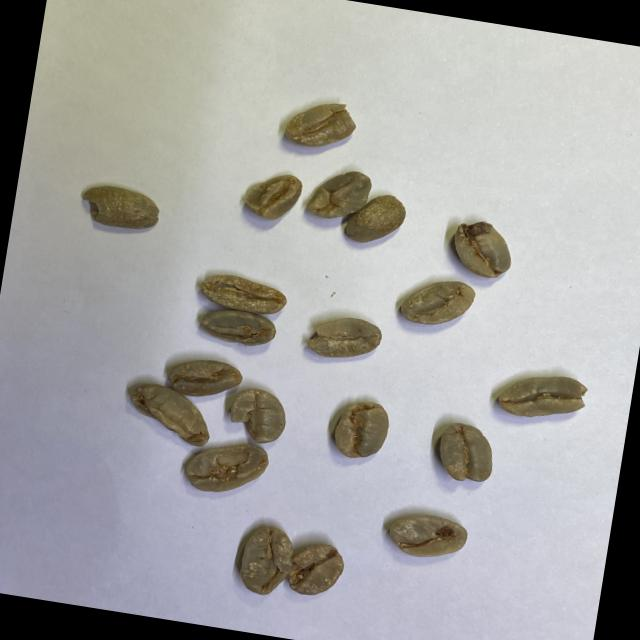bad: (120, 376, 218, 451), (178, 433, 274, 503), (491, 365, 594, 429), (230, 518, 300, 604), (393, 270, 480, 334), (76, 180, 166, 238), (445, 214, 519, 284), (280, 92, 360, 156), (325, 393, 395, 466), (193, 268, 291, 320), (221, 383, 294, 450), (303, 309, 386, 367), (302, 162, 376, 226), (339, 187, 410, 253), (281, 534, 349, 602), (193, 302, 281, 354), (163, 352, 246, 405), (237, 166, 306, 227)
good: (382, 507, 473, 567), (432, 418, 502, 490)
